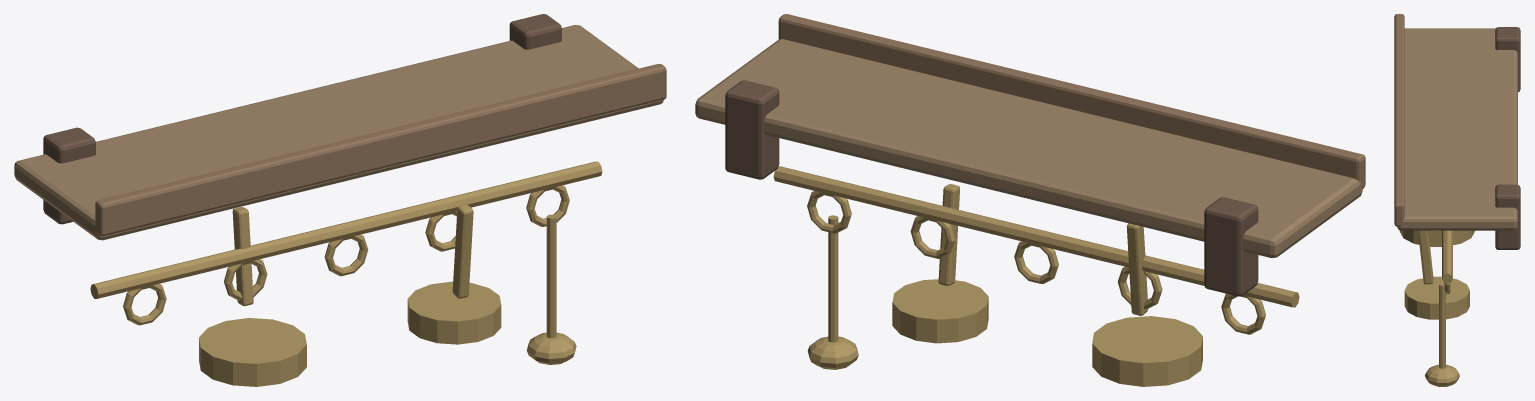
The picture shows the model from 3 angles, left to right: view 1: azimuth 30°, elevation 25°; view 2: azimuth 150°, elevation 25°; view 3: azimuth 270°, elevation 25°; orthographic projection. The views are drawn at different scales.
Parts seen in each view (by area): view 1: potRack; view 2: potRack; view 3: potRack.
Part boxes in pixels (x1=…): potRack: x1=14, y1=14, x2=666, y2=386; potRack: x1=695, y1=14, x2=1365, y2=386; potRack: x1=1394, y1=14, x2=1520, y2=386.
Bounding box in the file's own units: 0.9 × 0.4543 × 0.25.
